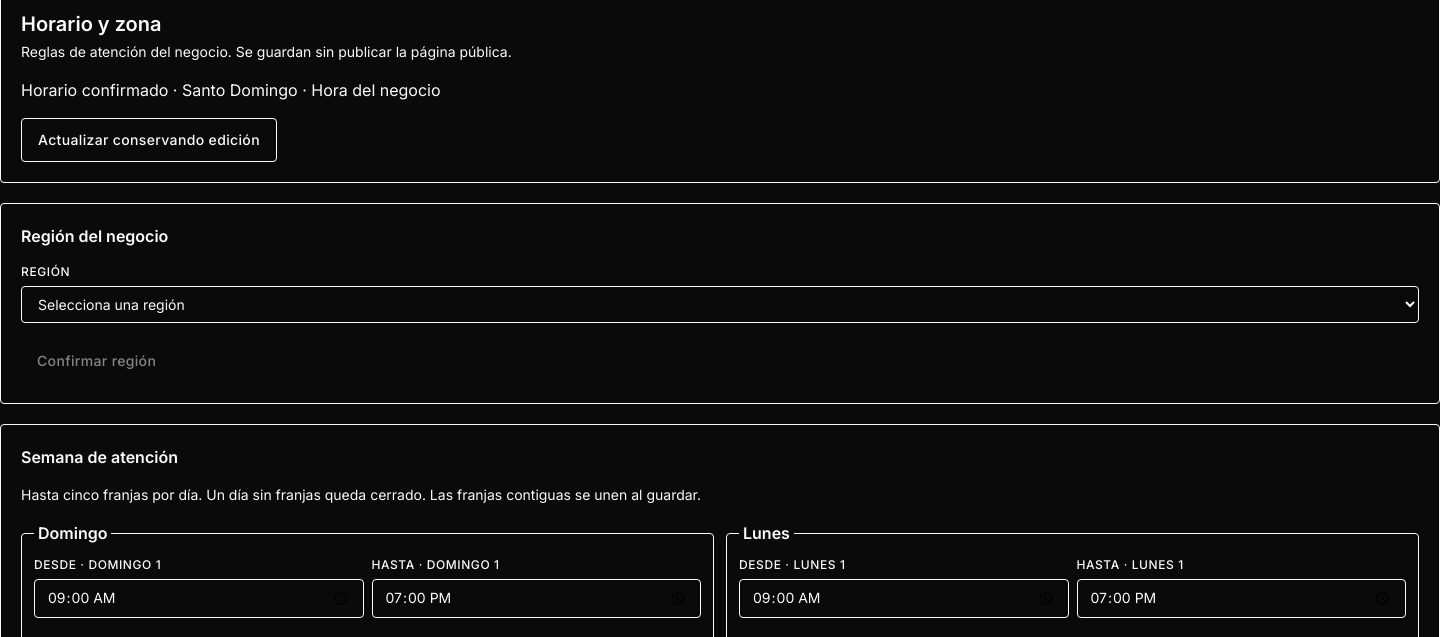
Horario D14/C2 › requires impact review, invalidates it after editing and saves the exact reviewed revision
The image size is (1440, 637).
Replace the text in the time field labelled "Hasta · Lunes 1" with "18:00" at (1241, 598), box x1=1076 y1=579 x2=1406 y2=618
(page scrolled)
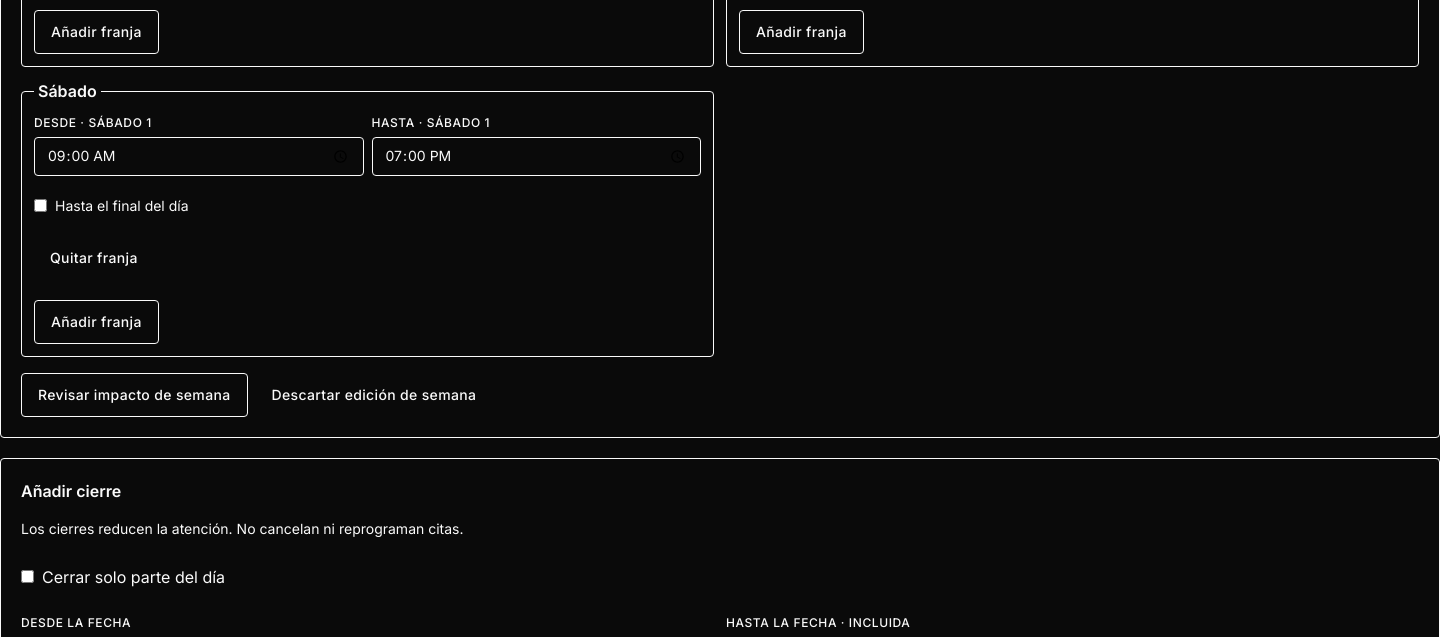
Click the button "Revisar impacto de semana" at (134, 395), box x1=21 y1=373 x2=248 y2=417
(page scrolled)
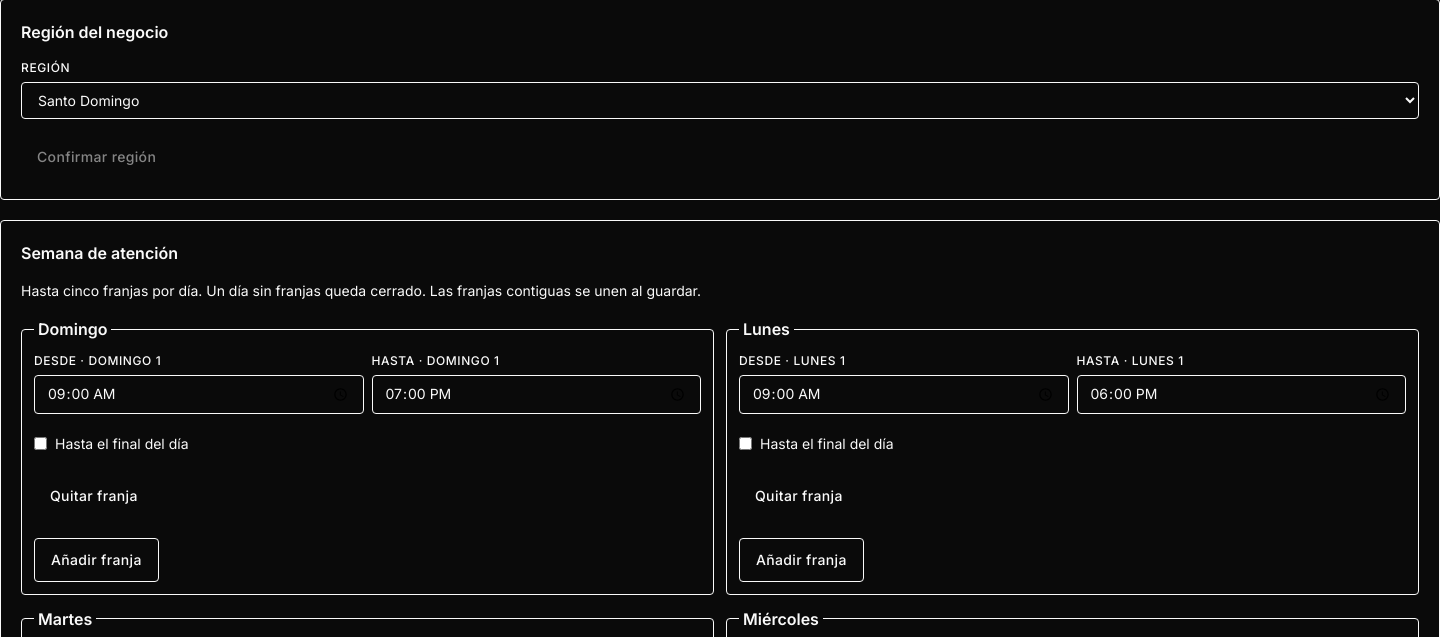
Replace the text in the time field labelled "Hasta · Lunes 1" with "17:00" at (1241, 394), box x1=1076 y1=375 x2=1406 y2=414
(page scrolled)
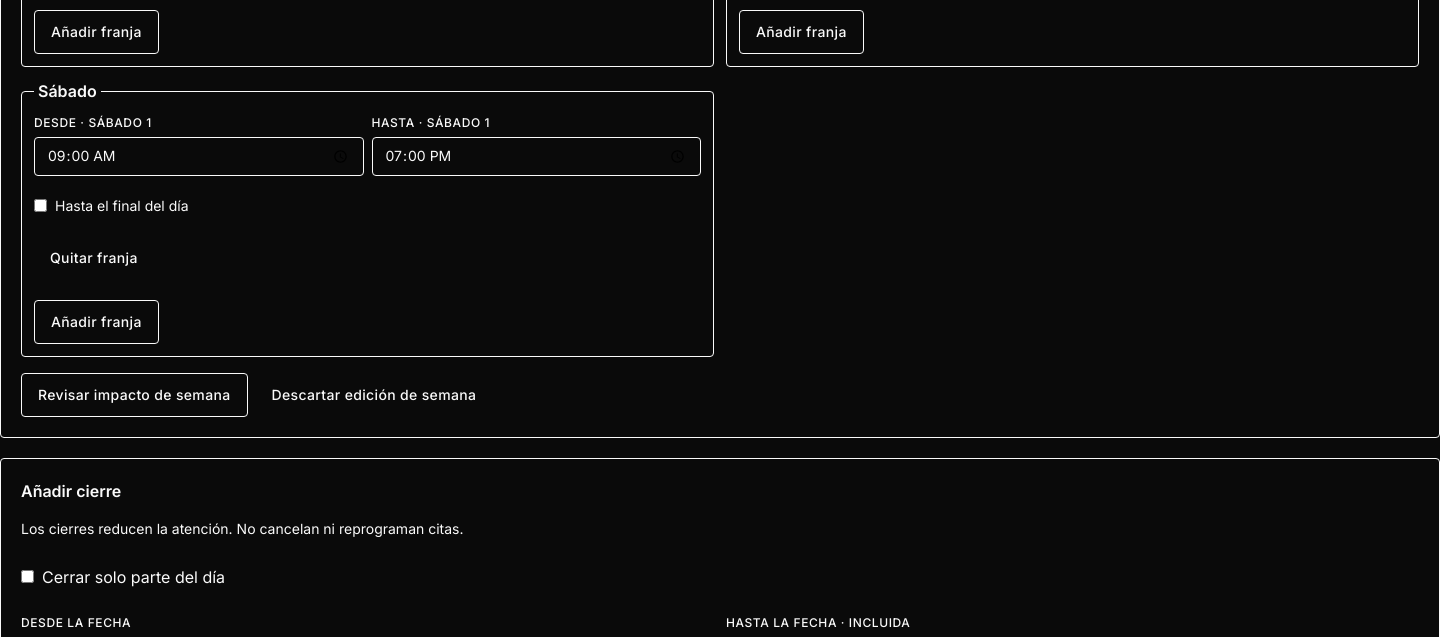
Expected: the button "Guardar semana revisada" is not shown
Click the button "Revisar impacto de semana" at (134, 395), box x1=21 y1=373 x2=248 y2=417
(page scrolled)
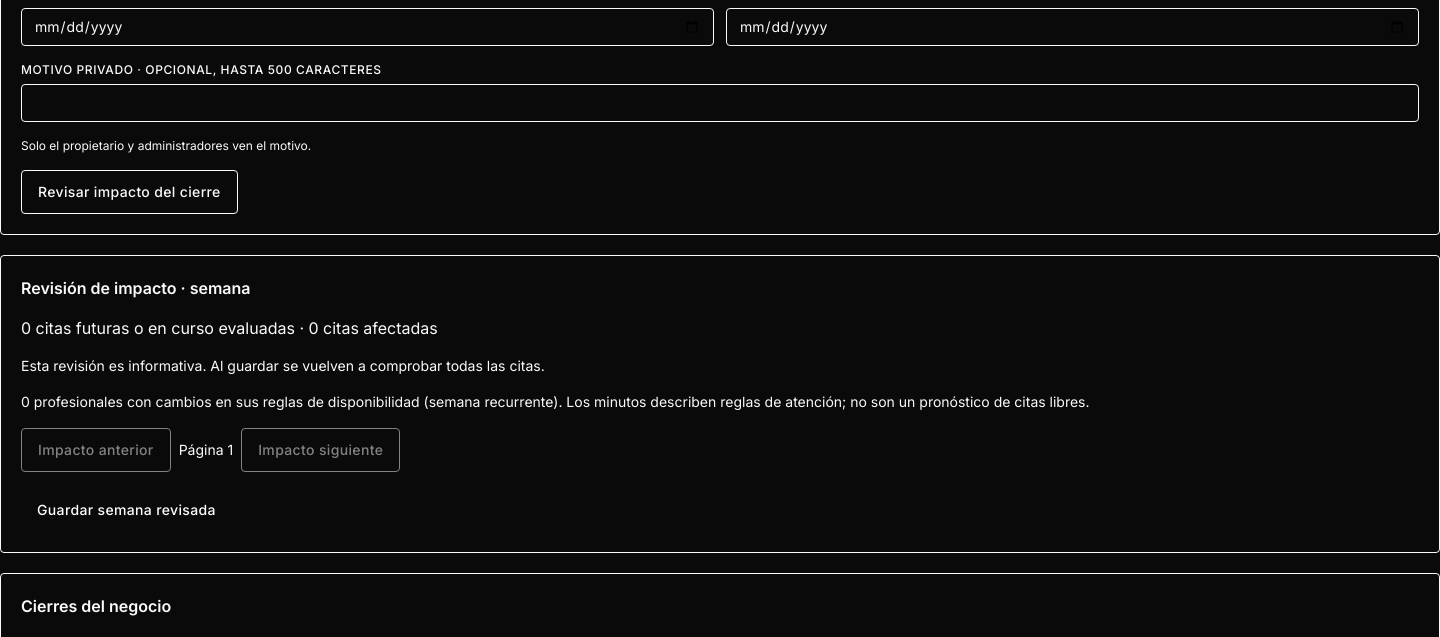
Now the button "Guardar semana revisada" is shown
Click the button "Guardar semana revisada" at (126, 510), box x1=21 y1=488 x2=232 y2=532
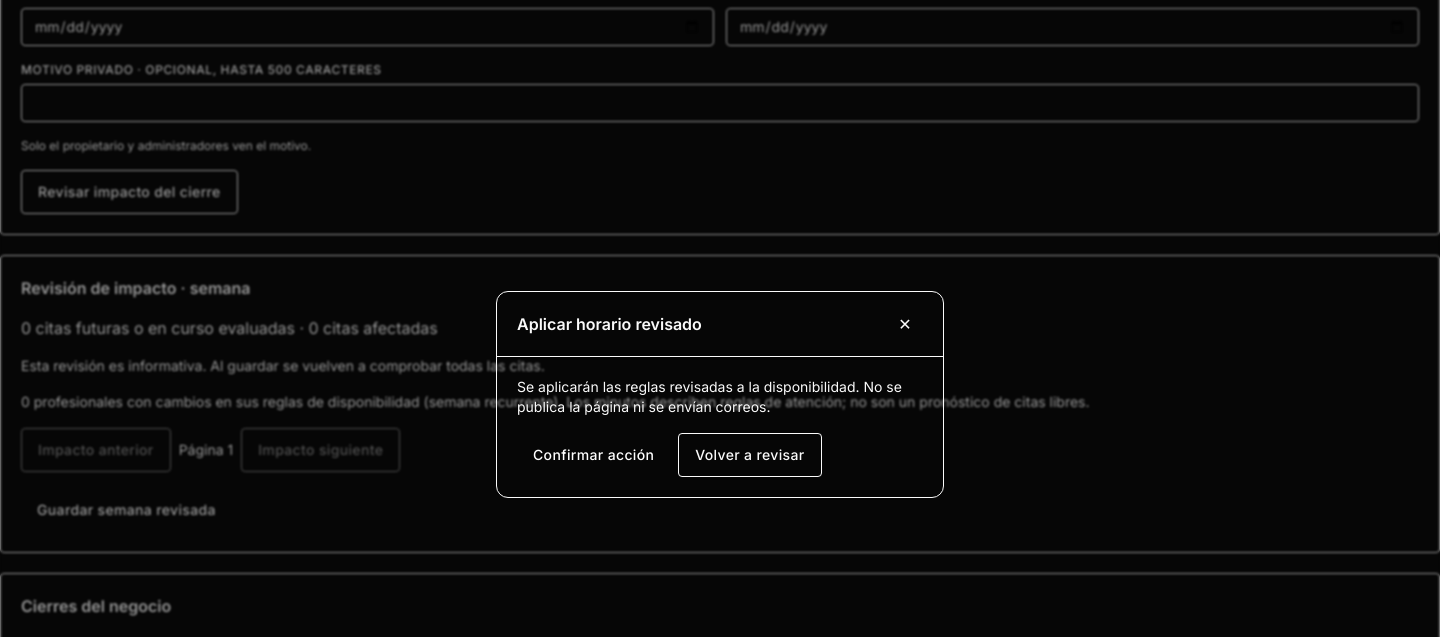
Click the button "Confirmar acción" at (594, 454), box x1=517 y1=432 x2=670 y2=476
(page scrolled)
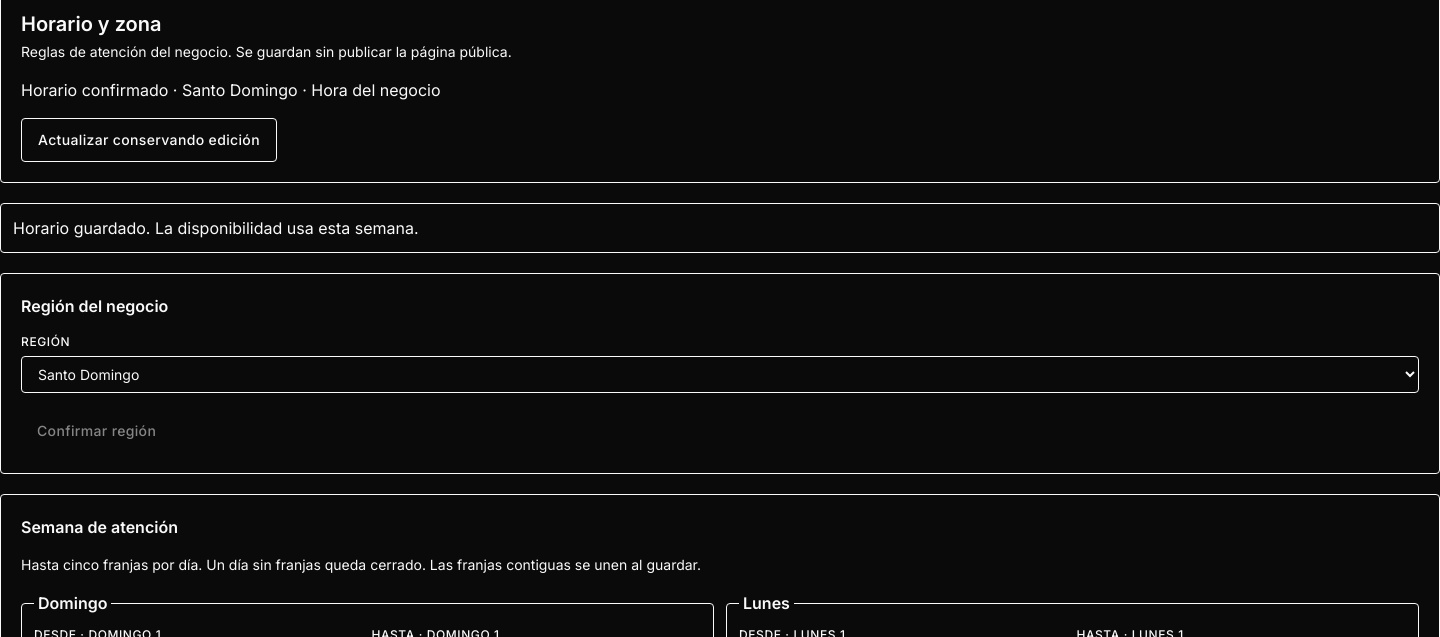
Now the text "Horario guardado. La disponibilidad usa esta semana." is shown, box x1=0 y1=203 x2=1439 y2=253
